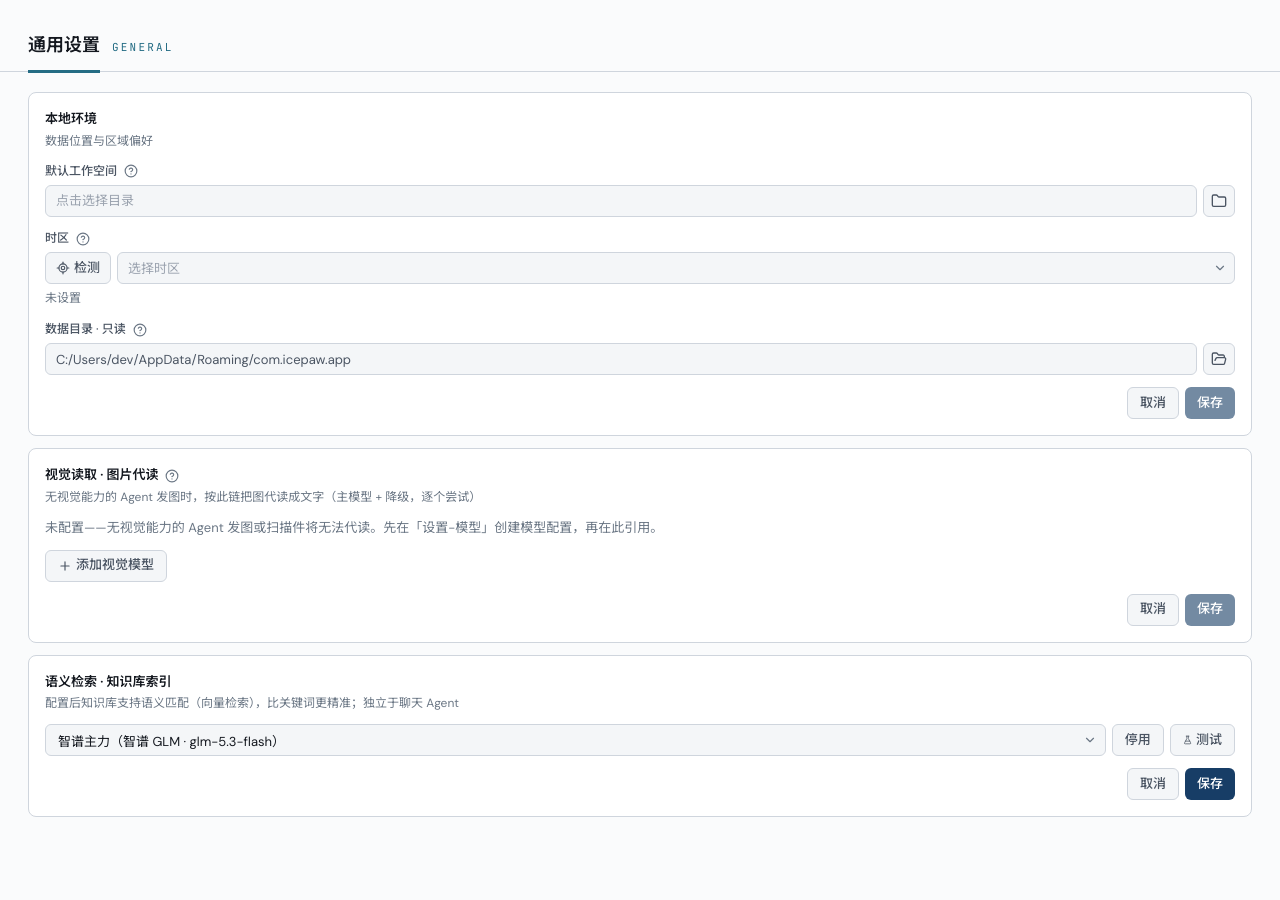
Test case: GeneralSettings 通用设置页（三卡显式保存） › 健康检查失败：未切换、原配置保留（overlay 留开，错误文案明示）
Expected: the number of elements with class "settings-card" is 3, 28,92 -> 1252,436; 28,448 -> 1252,643; 28,655 -> 1252,818
Click the 3rd button "保存": [1210, 784] box 1185,768 -> 1235,800
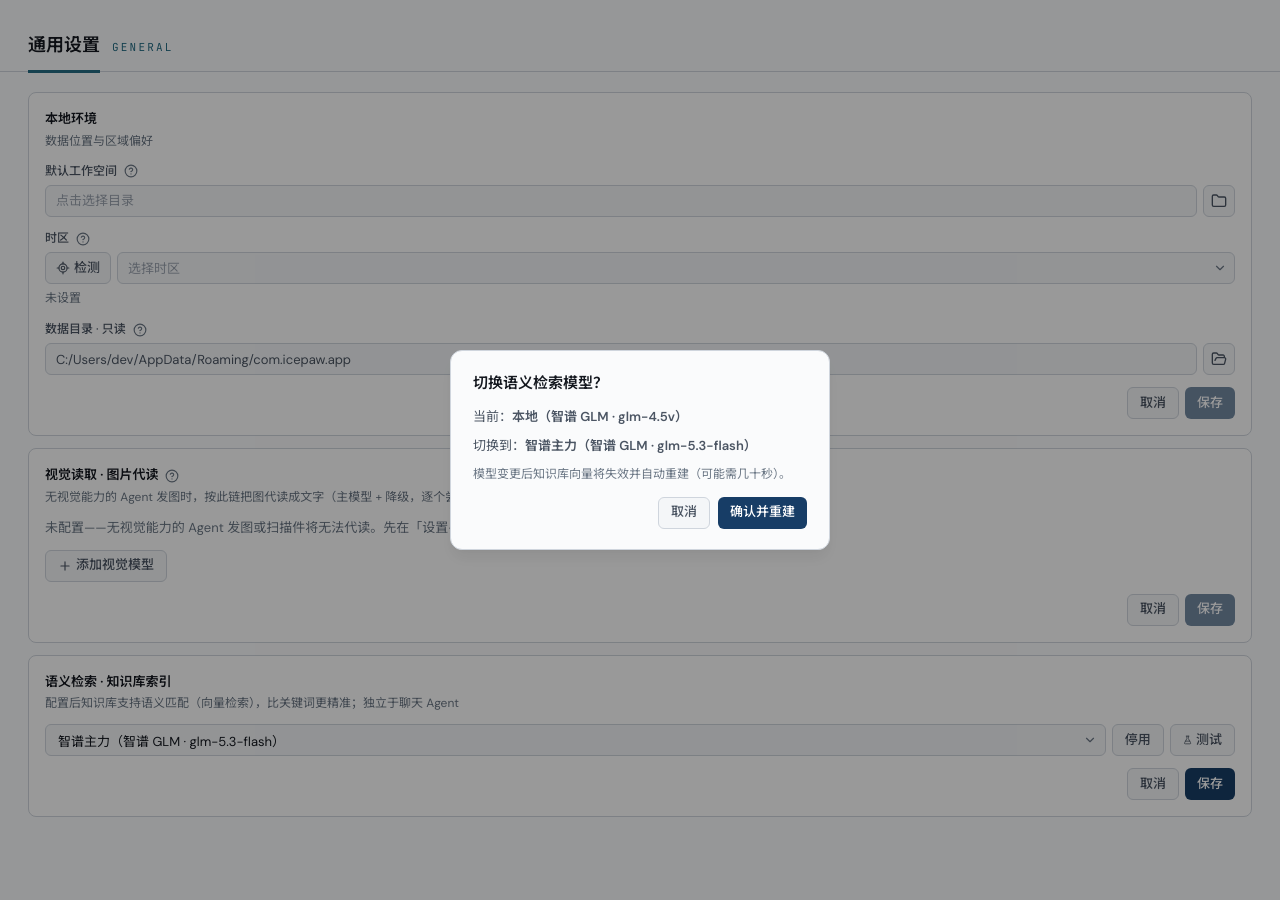
Click the button "确认并重建": [762, 513] box 718,497 -> 807,529
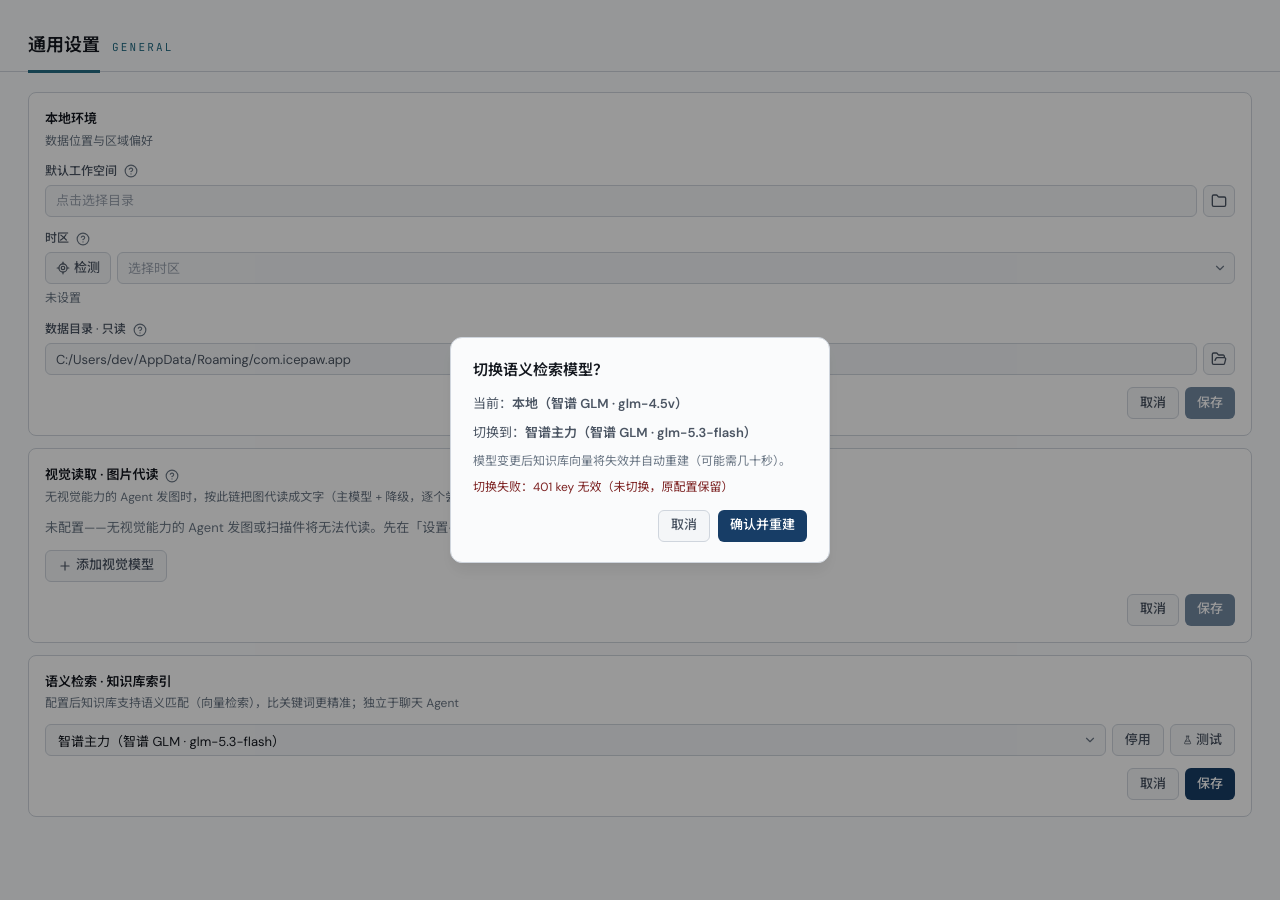
Now the element that starts with "切换语义检索模型？" is shown
Now the element that starts with "切换语义检索模型？" shows "未切换，原配置保留", box 473,479 -> 734,495
